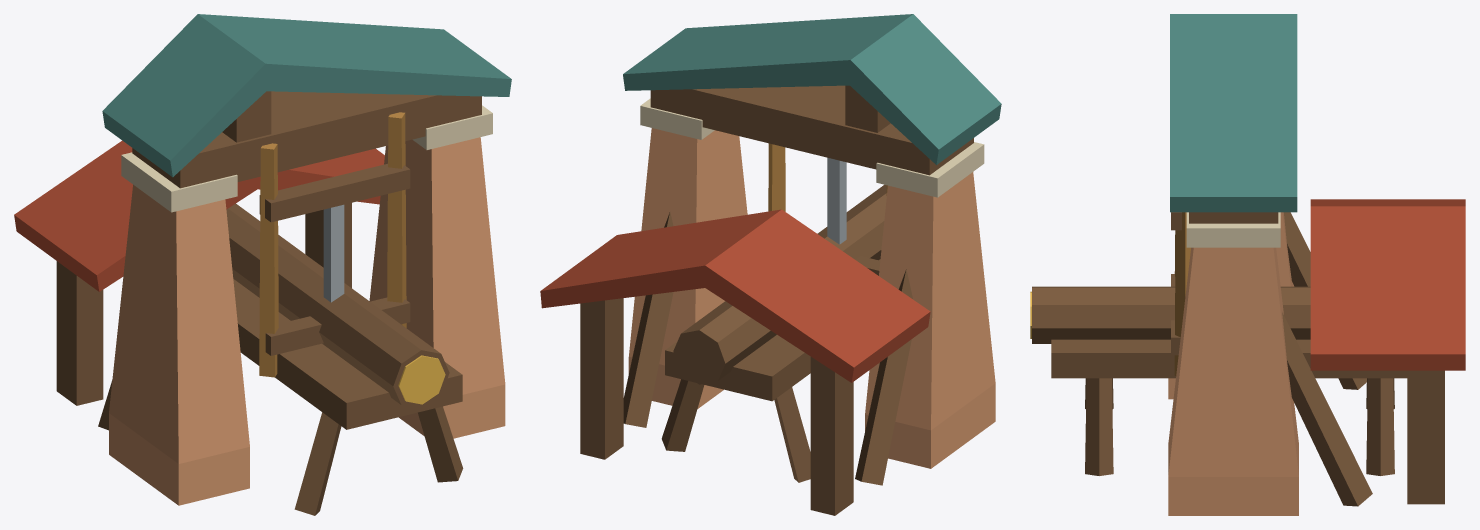
The model's file is ns-saw-hall.glb.
3 renders of one model, left to right at view 1: azimuth 30°, elevation 25°; view 2: azimuth 150°, elevation 25°; view 3: azimuth 270°, elevation 25°, orthographic. The views are drawn at different scales.
Parts seen in each view (by area): view 1: Work profile; view 2: Work profile; view 3: Work profile.
Boxes of the visible parts, <box> form: Work profile: <box>14,14,511,515</box>; Work profile: <box>540,14,1001,515</box>; Work profile: <box>1030,14,1465,515</box>.
Bounding box in the file's own units: 0.412 × 0.4913 × 0.486.
